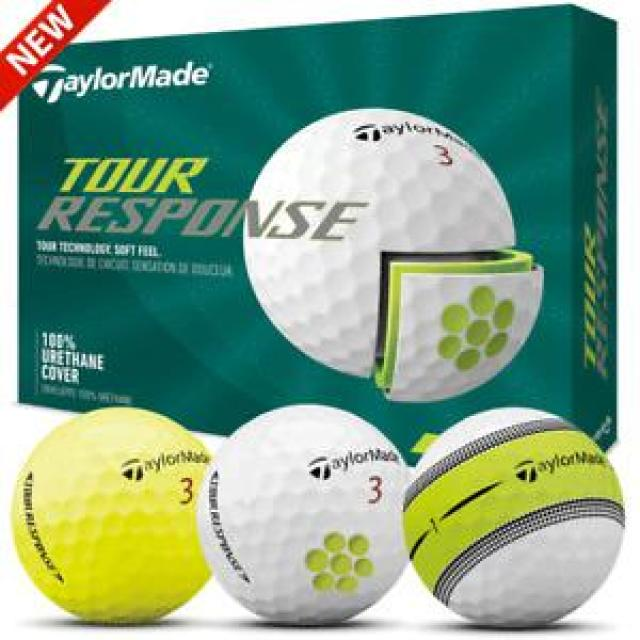ball: (191, 398, 414, 628)
